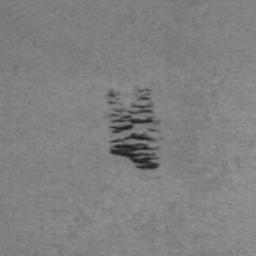Secondary rust skin: (107, 88, 161, 171), (106, 87, 116, 99)
